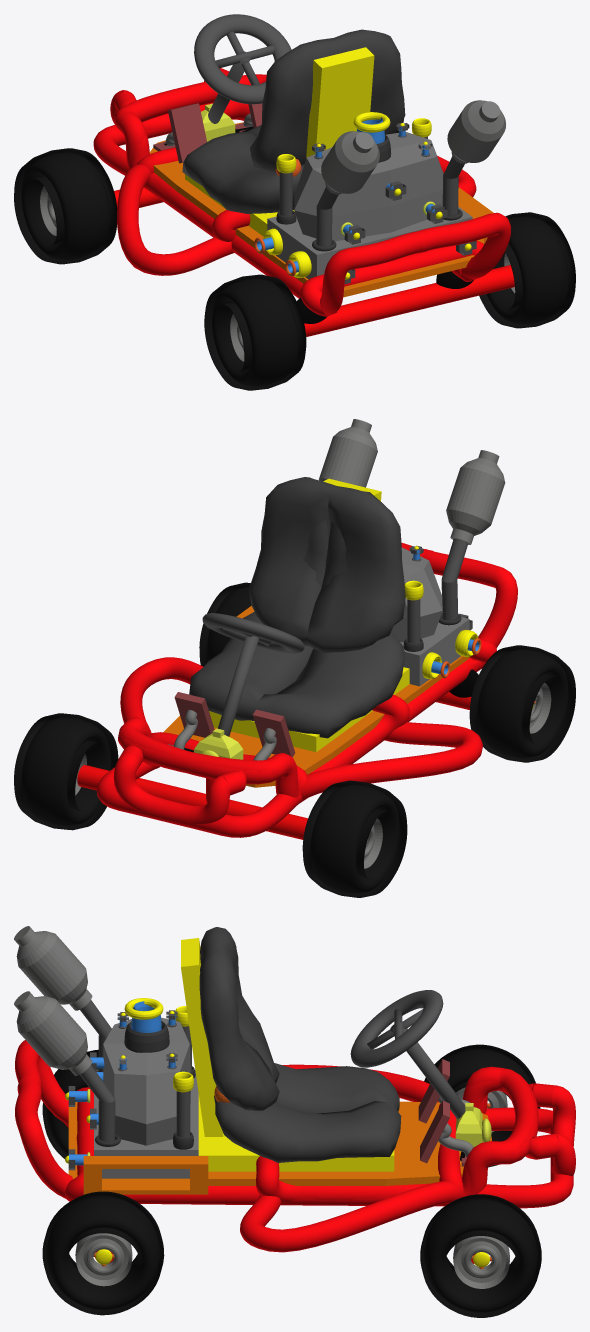
File: kartColor.fbx
3 renders of one model, top to bottom at view 1: azimuth 30°, elevation 25°; view 2: azimuth 150°, elevation 25°; view 3: azimuth 270°, elevation 25°, orthographic. The views are drawn at different scales.
Parts seen in each view (by area): view 1: BezierCurve, Torus.006, Sphere, Torus.002, Torus.001, Torus.025, Torus, Cube.007, Cube, BezierCurve.001; view 2: Sphere, BezierCurve, Torus.006, Torus.001, Torus.002, Torus.003, Torus, Cube, Cube.007, Torus.025, BezierCurve.002, BezierCurve.001; view 3: BezierCurve, Torus.006, Sphere, Torus.025, Torus.003, Cube.007, Torus, Cube, Torus.002, Torus.001, BezierCurve.002, BezierCurve.001.
Boxes of the visible parts, x1=… form: BezierCurve: x1=93, y1=68, x2=514, y2=336; Torus.006: x1=254, y1=100, x2=505, y2=283; Sphere: x1=182, y1=29, x2=405, y2=213; Torus.002: x1=14, y1=148, x2=117, y2=264; Torus.001: x1=204, y1=274, x2=306, y2=390; Torus.025: x1=479, y1=212, x2=575, y2=328; Torus: x1=114, y1=14, x2=291, y2=207; Cube.007: x1=185, y1=47, x2=374, y2=236; Cube: x1=149, y1=122, x2=474, y2=297; BezierCurve.001: x1=153, y1=103, x2=206, y2=163; Sphere: x1=189, y1=477, x2=405, y2=738; BezierCurve: x1=97, y1=543, x2=517, y2=837; Torus.006: x1=236, y1=419, x2=505, y2=686; Torus.001: x1=469, y1=645, x2=575, y2=762; Torus.002: x1=302, y1=780, x2=407, y2=897; Torus.003: x1=14, y1=713, x2=118, y2=830; Torus: x1=77, y1=613, x2=307, y2=839; Cube: x1=163, y1=656, x2=469, y2=787; Cube.007: x1=209, y1=478, x2=409, y2=752; Torus.025: x1=199, y1=582, x2=251, y2=666; BezierCurve.002: x1=168, y1=692, x2=214, y2=749; BezierCurve.001: x1=252, y1=709, x2=295, y2=760; BezierCurve: x1=15, y1=1040, x2=575, y2=1262; Torus.006: x1=14, y1=926, x2=208, y2=1194; Sphere: x1=199, y1=927, x2=401, y2=1162; Torus.025: x1=42, y1=1191, x2=164, y2=1315; Torus.003: x1=420, y1=1194, x2=541, y2=1317; Cube.007: x1=181, y1=938, x2=394, y2=1171; Torus: x1=350, y1=990, x2=491, y2=1263; Cube: x1=68, y1=1101, x2=491, y2=1185; Torus.002: x1=424, y1=1044, x2=540, y2=1167; Torus.001: x1=42, y1=1049, x2=98, y2=1158; BezierCurve.002: x1=420, y1=1101, x2=473, y2=1166; BezierCurve.001: x1=418, y1=1059, x2=478, y2=1123.
Size of the model in its own units: 1112 by 853 by 1473.
